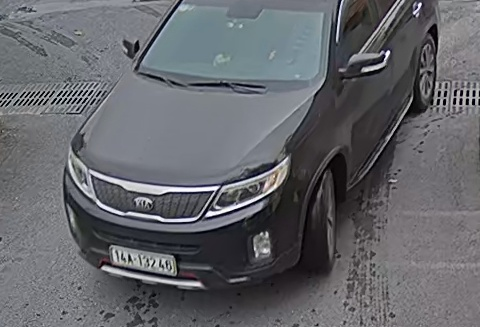vehicle plate: (105, 238, 180, 278)
